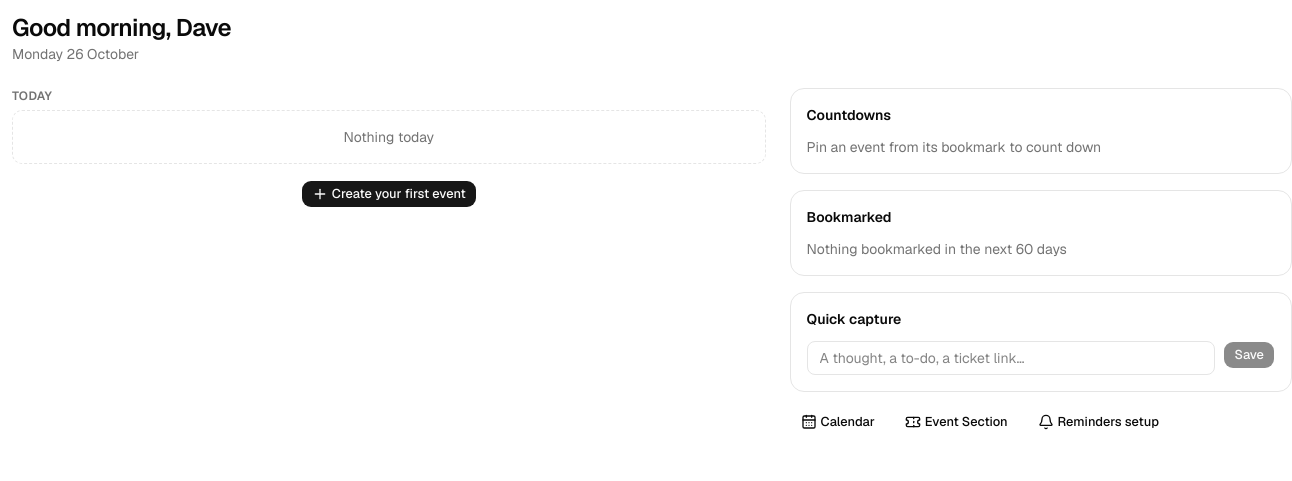
Test case: HomeDashboard › disables actions on pending temp notes
In the field named "Quick note": (1011, 358) 807,341 -> 1215,375, type "hello"
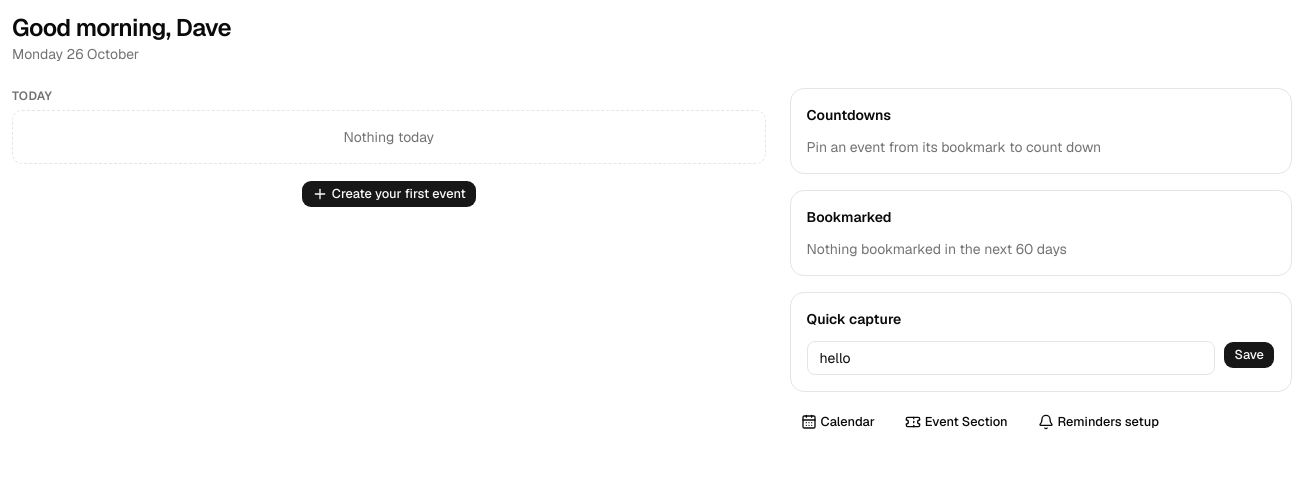
Click the button "Save": (1249, 355) 1223,341 -> 1275,369
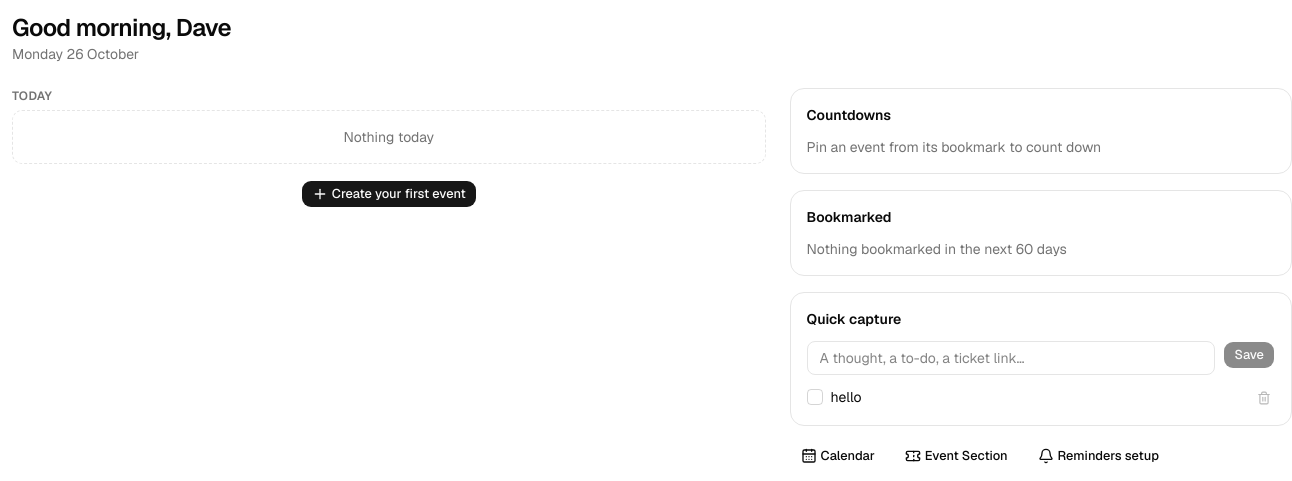
expect the button named "Delete note: hello" is disabled: met, box 1253,387 -> 1275,409
expect the button named "Mark done: hello" is disabled: met, box 807,389 -> 823,405
